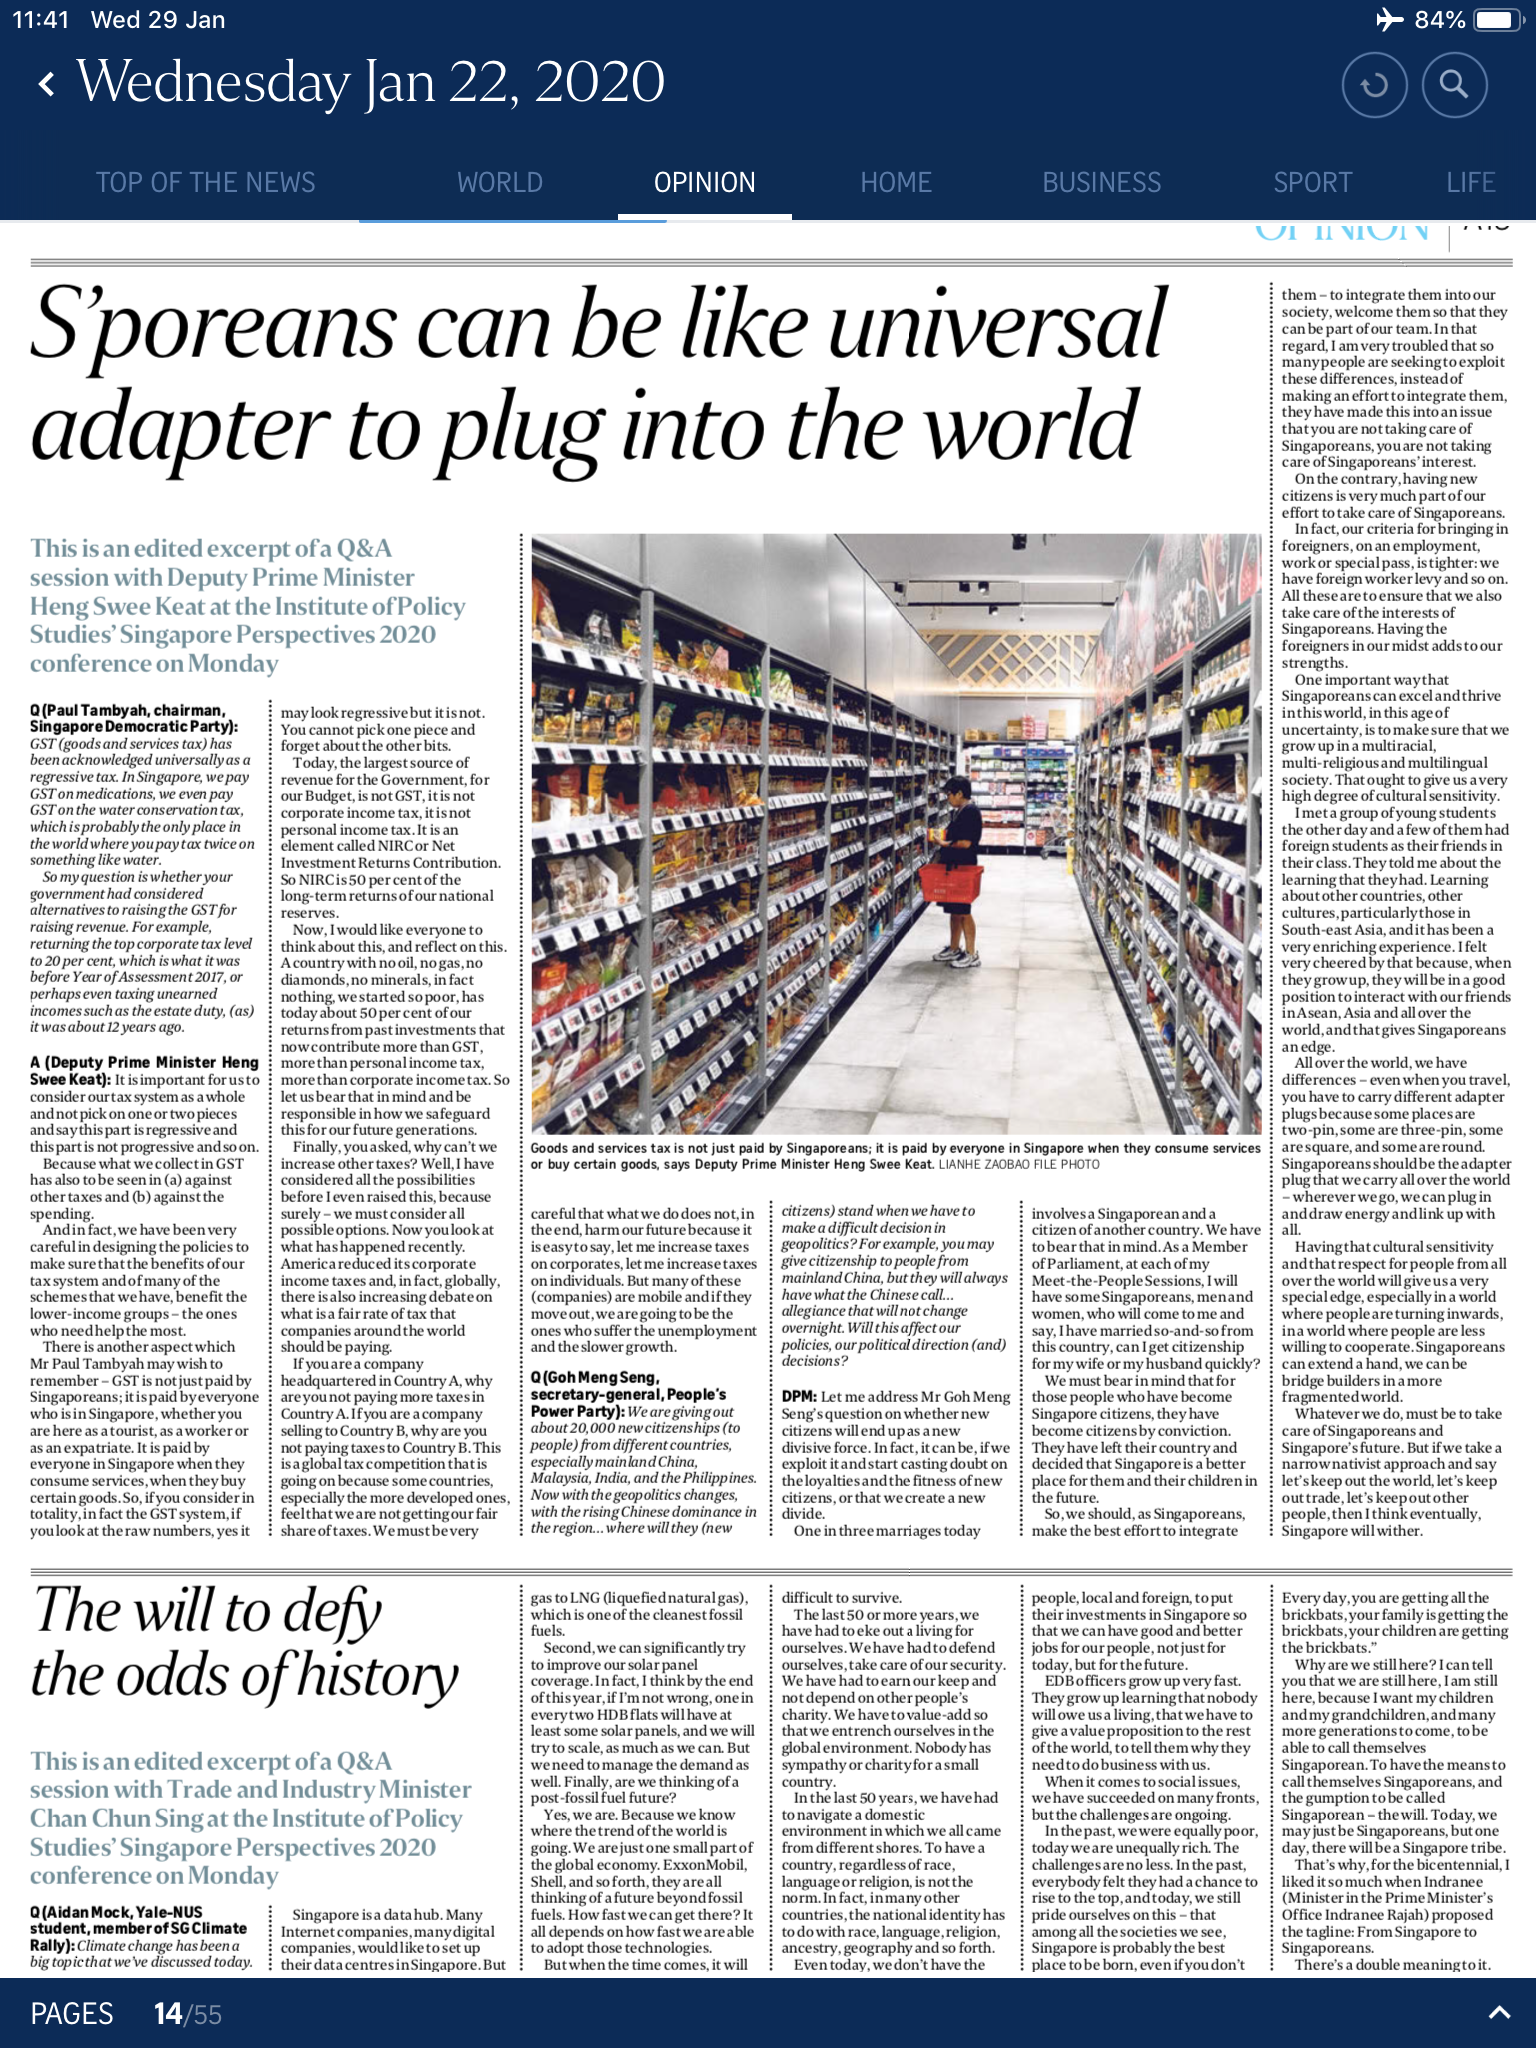Headline: (32, 274, 1179, 464), (32, 1579, 460, 1713)
Illustration: (528, 1142, 1263, 1179)
Image: (532, 535, 1263, 1134)
Text: (1279, 282, 1513, 1538), (27, 701, 260, 1543), (281, 701, 507, 1538), (529, 1588, 760, 1974), (1283, 1587, 1510, 1971), (1033, 1592, 1260, 1974), (783, 1588, 1007, 1974), (779, 1201, 1010, 1538), (529, 1203, 760, 1538), (1033, 1205, 1263, 1538), (27, 1903, 263, 1974), (282, 1903, 508, 1972)
